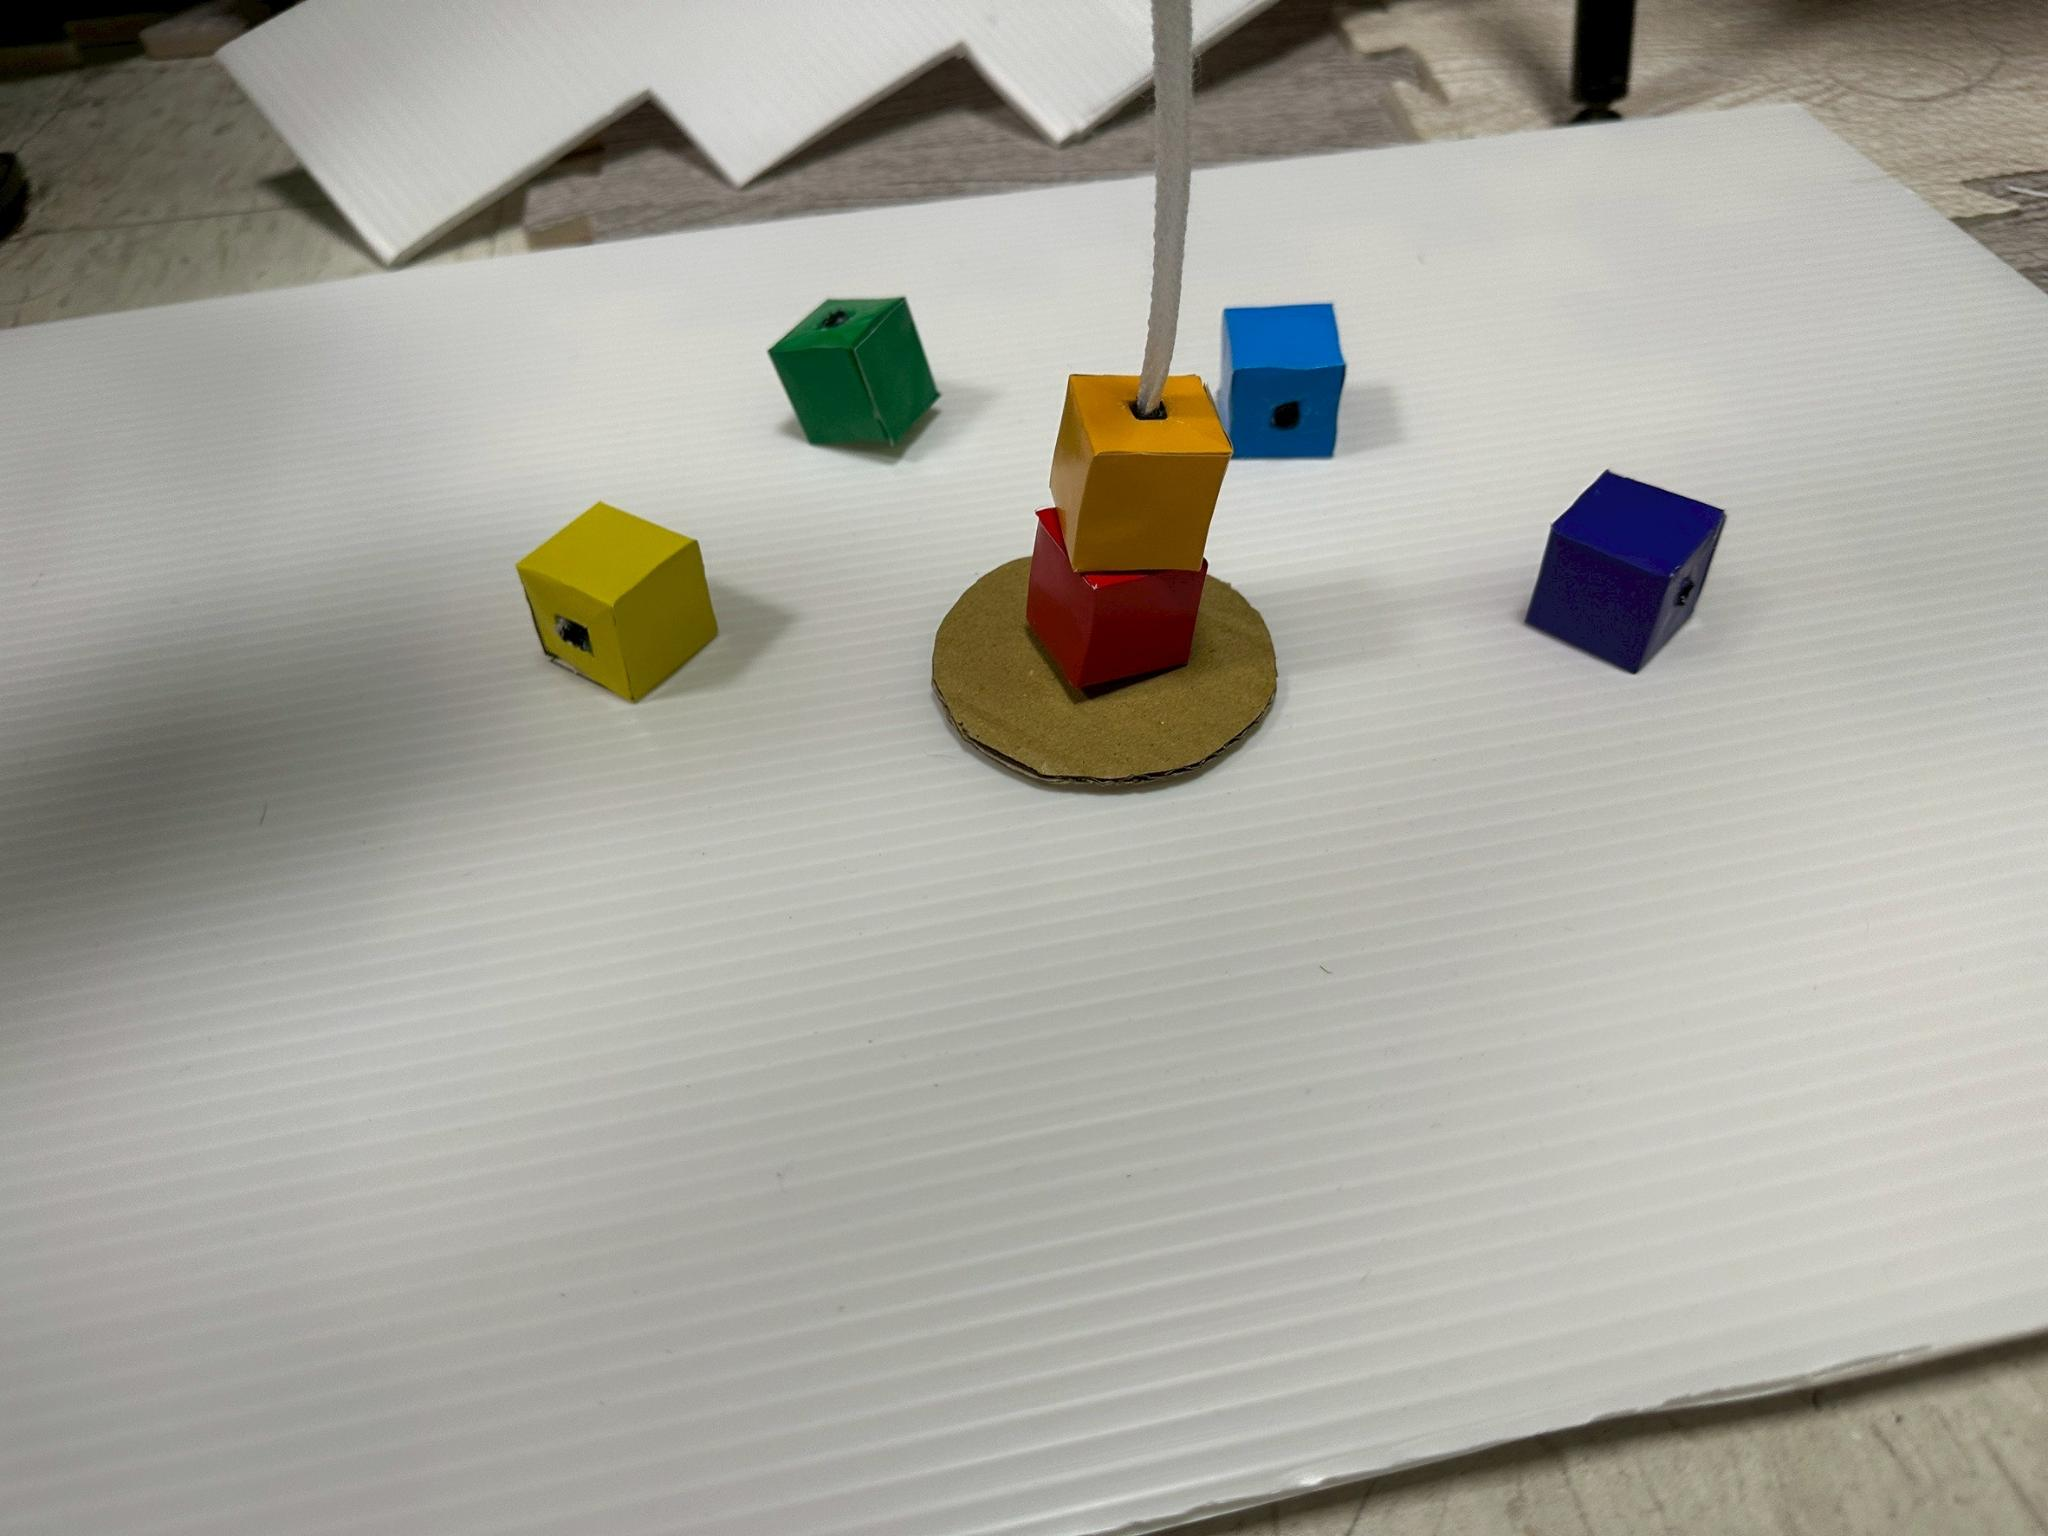base: (1526, 471, 1724, 673), (518, 505, 716, 700), (1050, 374, 1230, 573), (1027, 508, 1206, 694), (771, 297, 939, 444), (1218, 305, 1345, 457)
